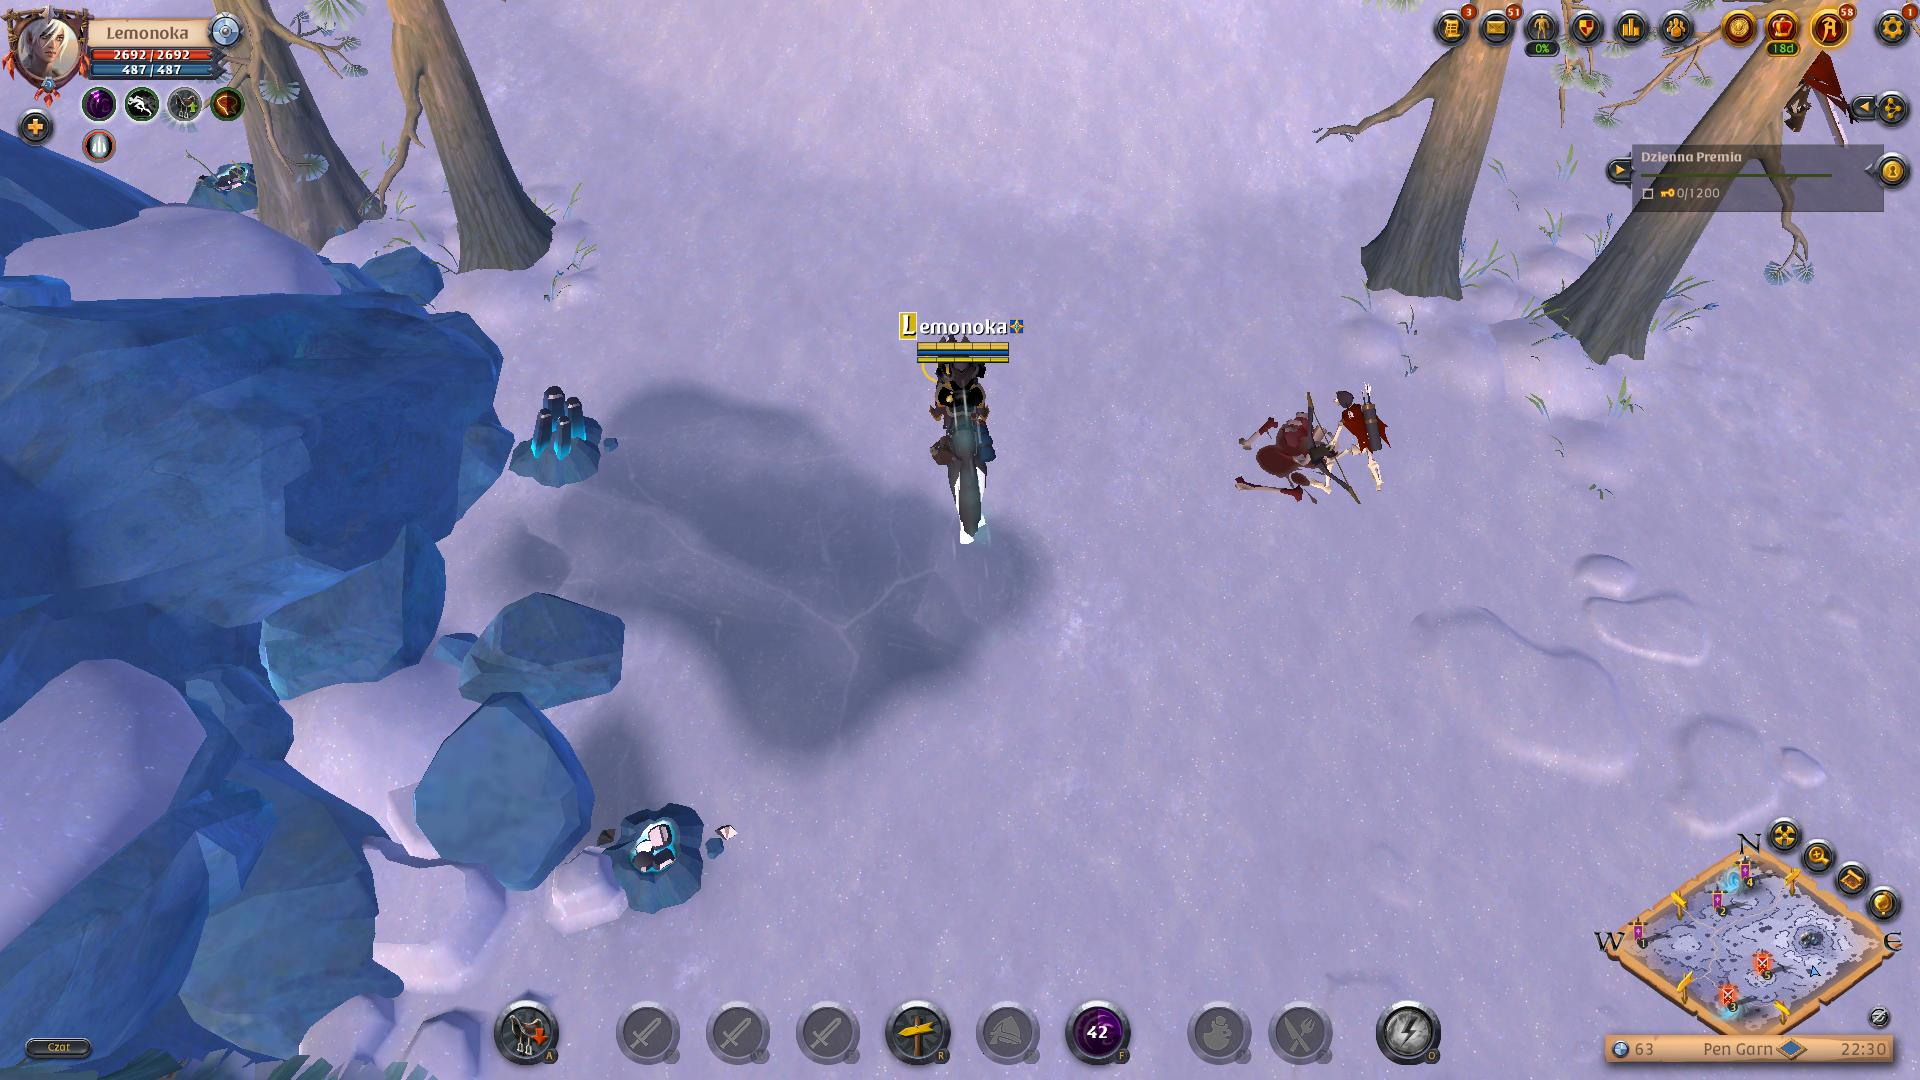ore tier 4: (516, 381, 612, 491)
